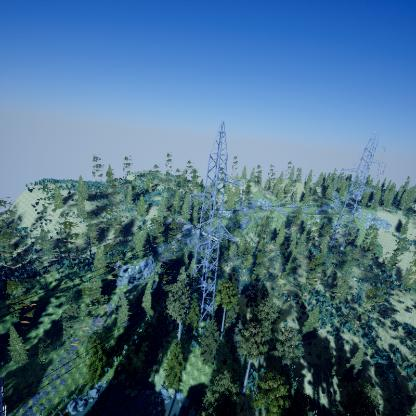tower: (182, 116, 249, 341), (325, 132, 382, 252)
